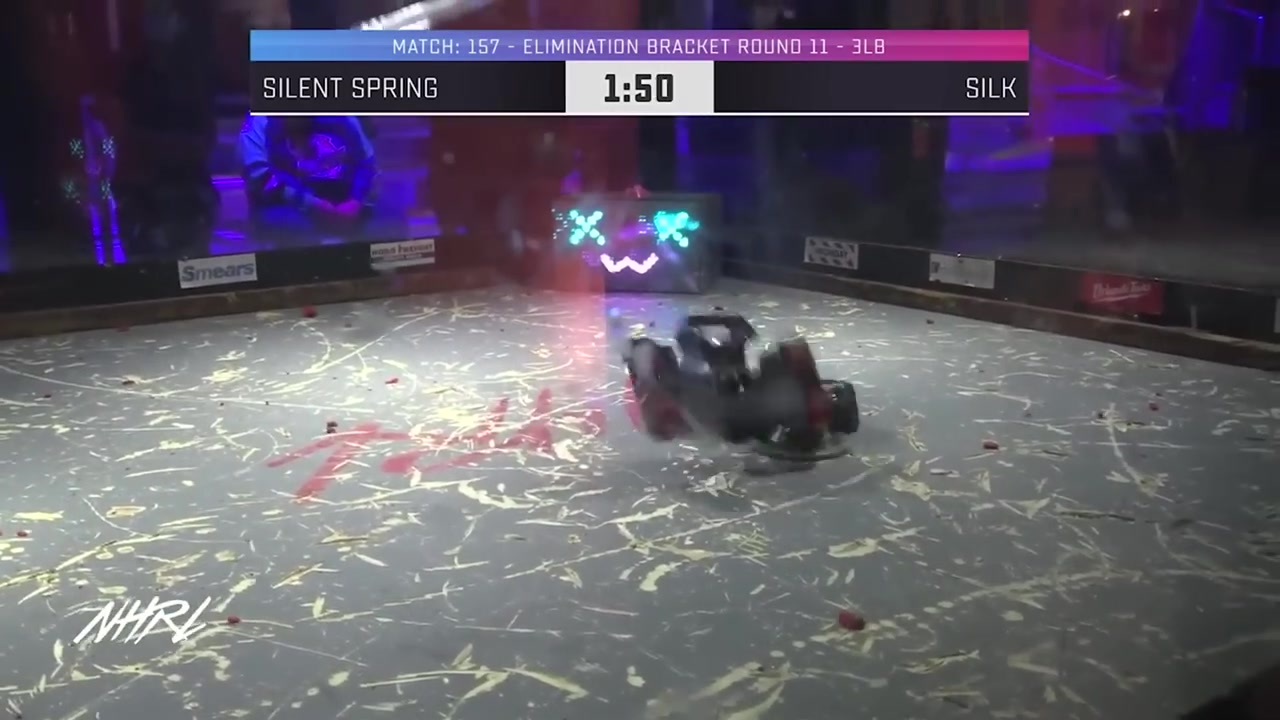combatbot: (624, 311, 860, 447)
housebot: (550, 193, 725, 296)
